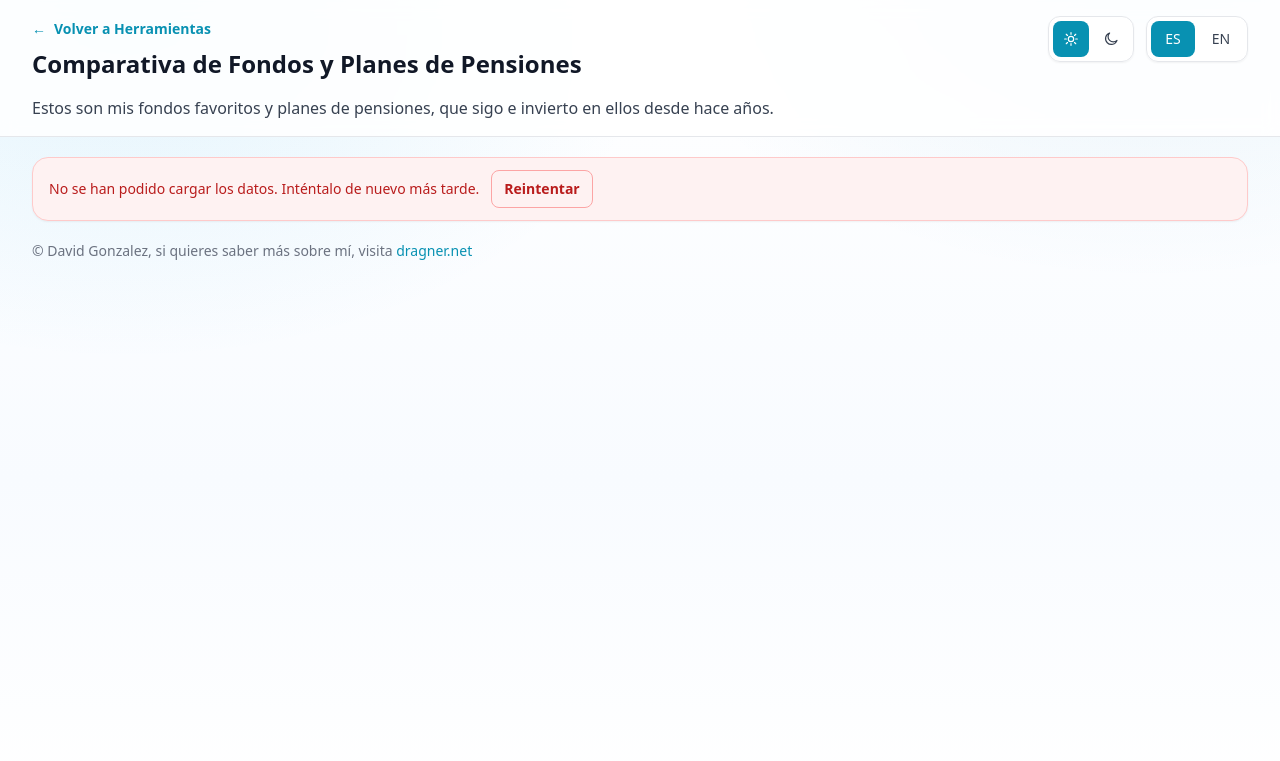
Test case: data loading and mobile controls › rejects an invalid response visibly and lets the user retry
Check: the message "No se han podido cargar los datos. Inténtalo de nuevo más tarde. Reintentar" is shown, box [32, 157, 1248, 221]
Check: the text "Fondo 1" is not shown
Step 1. Click the button "Reintentar" → (542,189), box [491, 170, 593, 208]
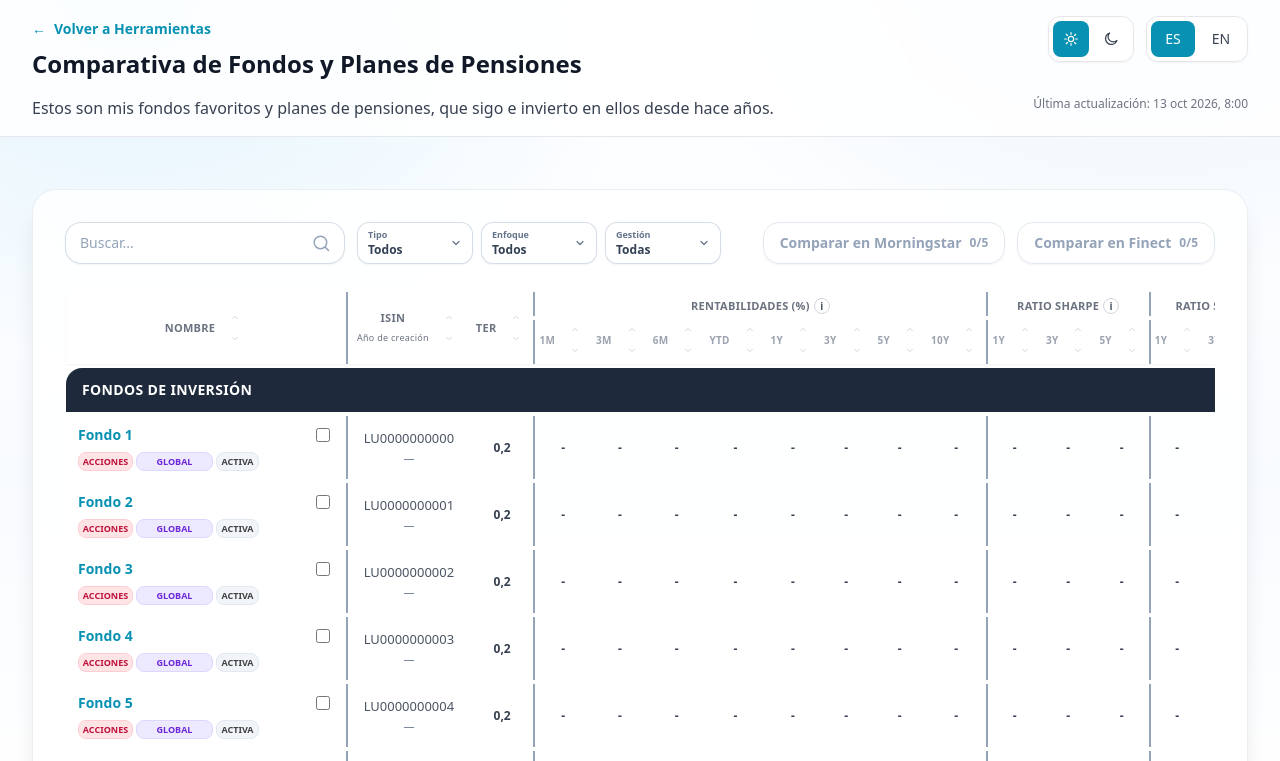
Check: the link "Fondo 1" is shown, box [78, 426, 133, 444]
Check: the message "No se han podido cargar los datos. Inténtalo de nuevo más tarde. Reintentar" is gone
